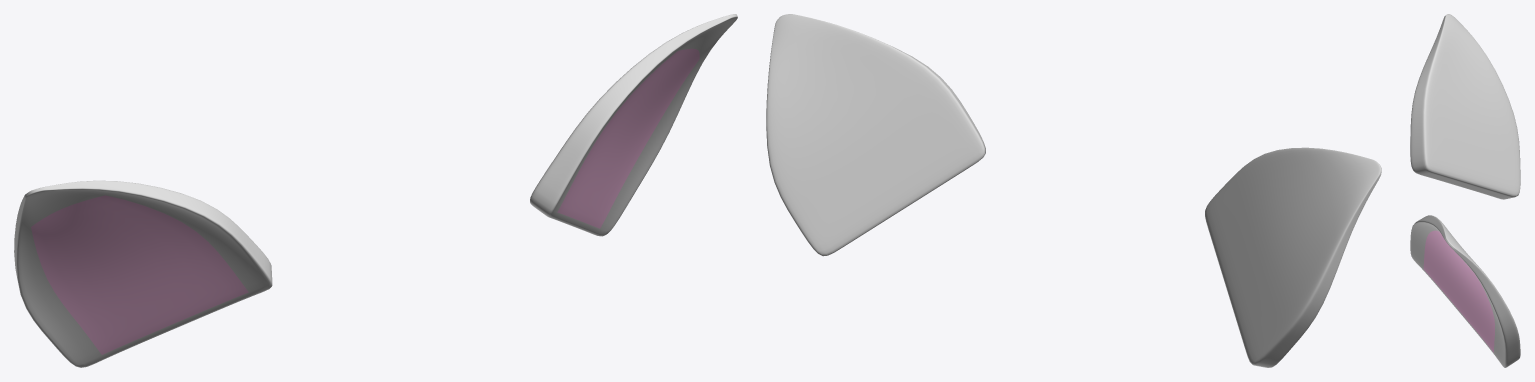
Rendered from cat-ears.glb.
3 renders of one model, left to right at view 1: azimuth 30°, elevation 25°; view 2: azimuth 150°, elevation 25°; view 3: azimuth 270°, elevation 25°, orthographic. The views are drawn at different scales.
Visible parts, largest first — view 1: kitten ear right, kitten ear left; view 2: kitten ear left, kitten ear right; view 3: kitten ear right, kitten ear left.
Part boxes in pixels (<box>): kitten ear right: <box>14,180,272,367</box>; kitten ear left: <box>530,14,737,236</box>; kitten ear left: <box>766,14,985,256</box>; kitten ear right: <box>1205,147,1381,367</box>; kitten ear right: <box>1410,14,1520,199</box>; kitten ear left: <box>1410,215,1520,367</box>.
Size of the model in its own units: 7.25 by 2.31 by 1.44.
